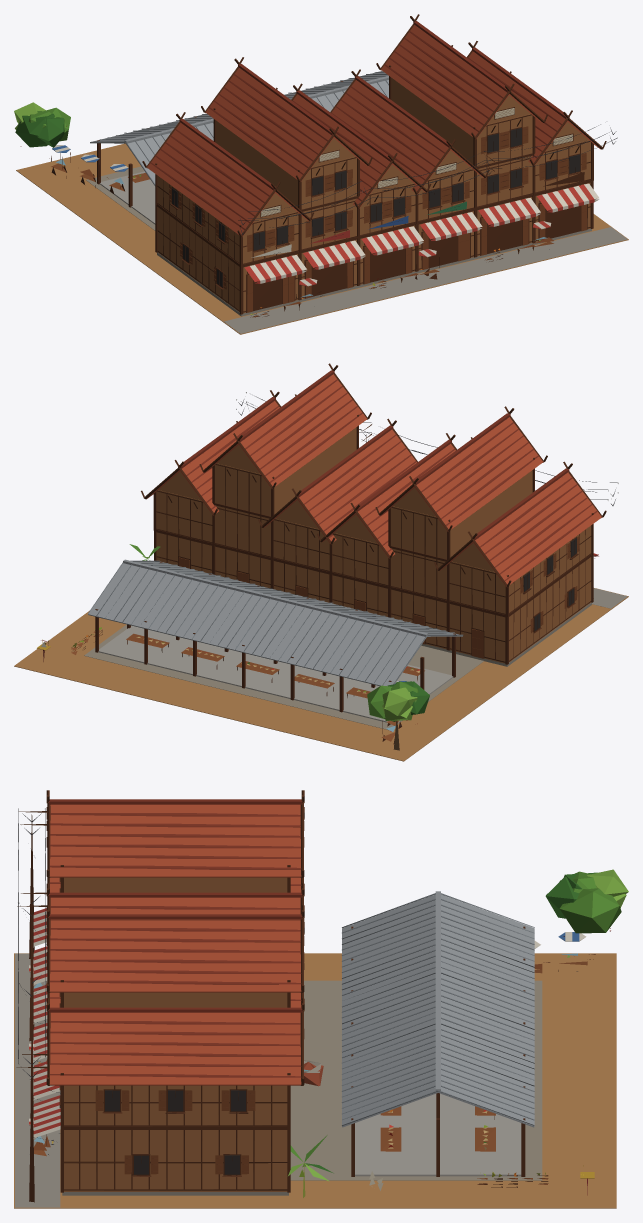
File: shop_5.glb
3 renders of one model, top to bottom at view 1: azimuth 30°, elevation 25°; view 2: azimuth 150°, elevation 25°; view 3: azimuth 270°, elevation 25°, orthographic. The views are drawn at different scales.
Parts seen in each view (by area): view 1: body, windows; view 2: body; view 3: body, windows.
Boxes of the visible parts, box(x1,y1,x2,y2) form: body: box(14, 14, 628, 334); windows: box(172, 128, 580, 286); body: box(14, 363, 628, 761); body: box(14, 790, 628, 1208); windows: box(51, 1090, 245, 1174).
Bounding box in the file's own units: 32.63 × 13.55 × 32.55.
